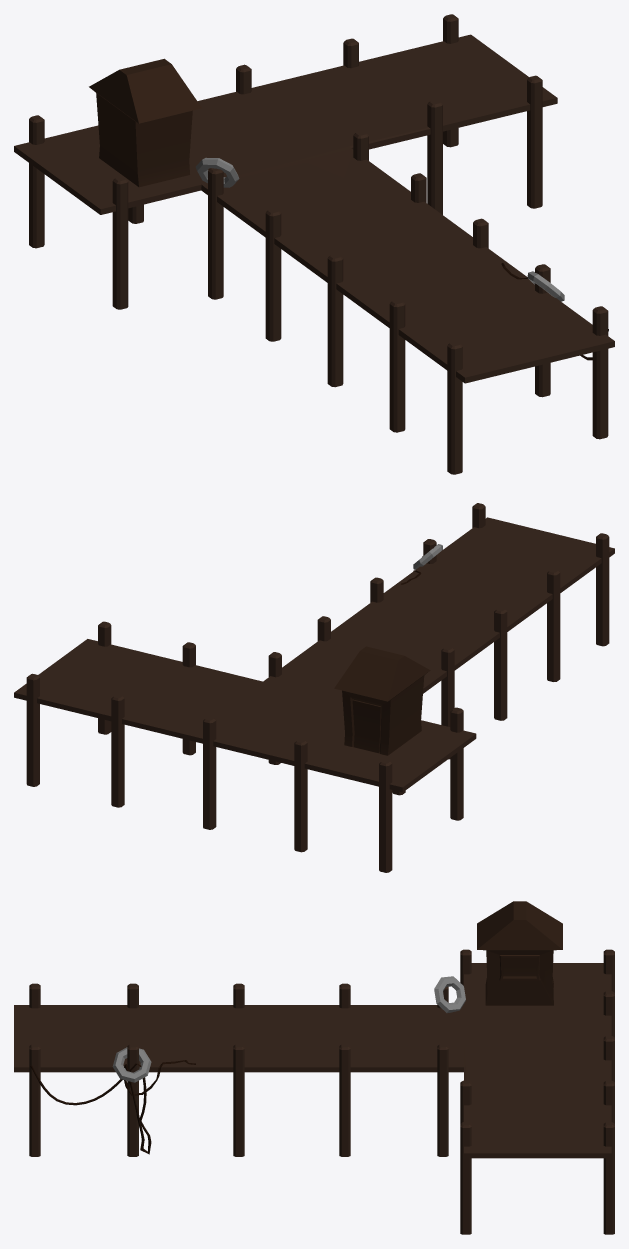
File: portFinal.fbx
The picture shows the model from 3 angles, top to bottom: view 1: azimuth 30°, elevation 25°; view 2: azimuth 150°, elevation 25°; view 3: azimuth 270°, elevation 25°; orthographic projection. The views are drawn at different scales.
Visible parts, largest first — view 1: polySurface22 (×3); view 2: polySurface22 (×2); view 3: polySurface22 (×4).
Boxes of the visible parts, left/top/right/bottom form: polySurface22 (×3): left=14, top=14, right=614, bottom=474; polySurface22 (×2): left=14, top=503, right=614, bottom=872; polySurface22 (×4): left=14, top=901, right=614, bottom=1234.
Bounding box in the file's own units: 14.01 × 5.94 × 18.71.
